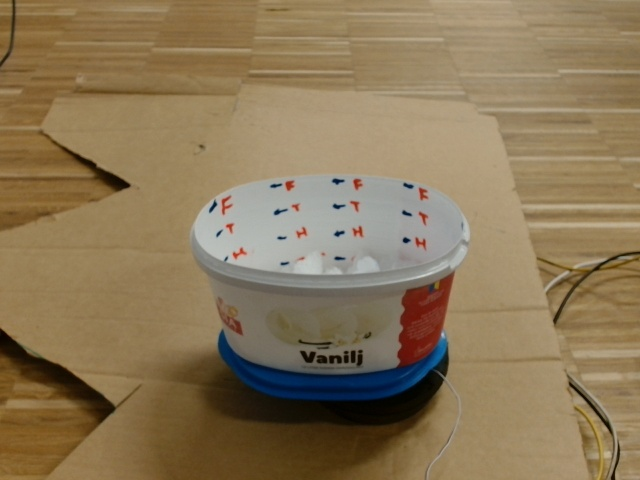Big_quarter: (192, 172, 473, 293)
